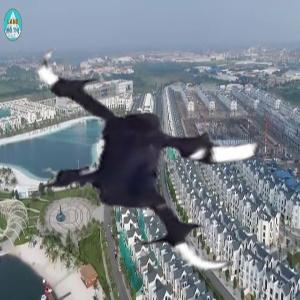drone: (13, 10, 299, 296)
